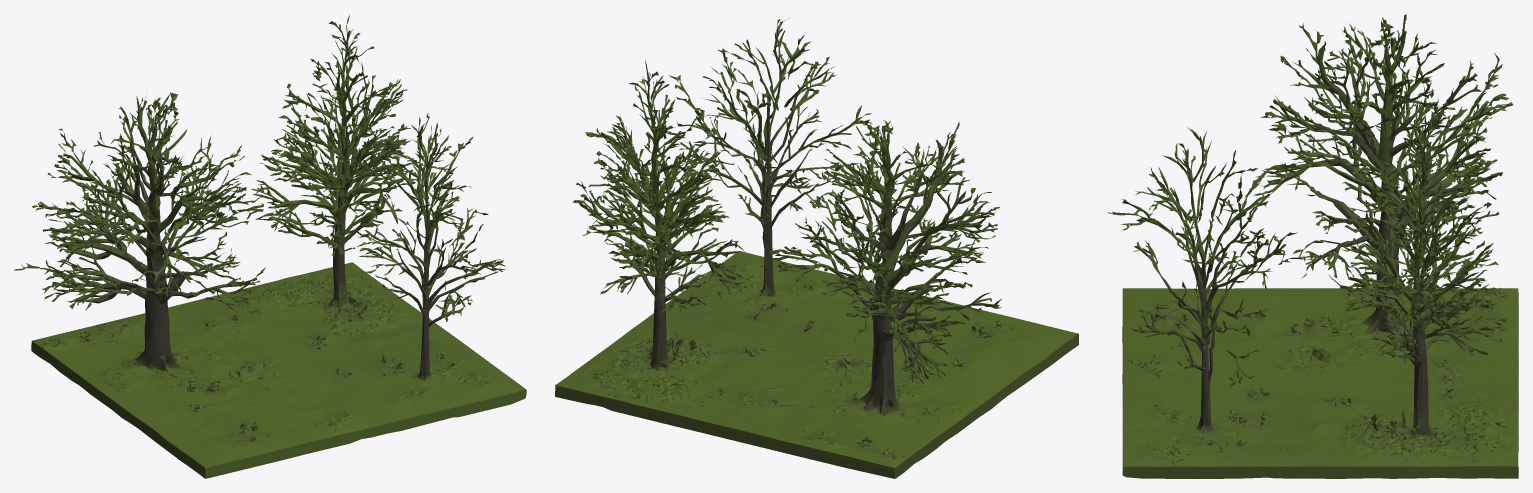
File: grass_trees_tall.glb
The picture shows the model from 3 angles, left to right: view 1: azimuth 30°, elevation 25°; view 2: azimuth 150°, elevation 25°; view 3: azimuth 270°, elevation 25°; orthographic projection. The views are drawn at different scales.
Parts seen in each view (by area): view 1: output_unwrapped; view 2: output_unwrapped; view 3: output_unwrapped.
Part boxes in pixels (x1=…): output_unwrapped: x1=14, y1=15, x2=526, y2=478; output_unwrapped: x1=555, y1=18, x2=1078, y2=478; output_unwrapped: x1=1107, y1=14, x2=1518, y2=478.
Bounding box in the file's own units: 1.7 × 1.28 × 1.4.
1 material, 1 textured.
